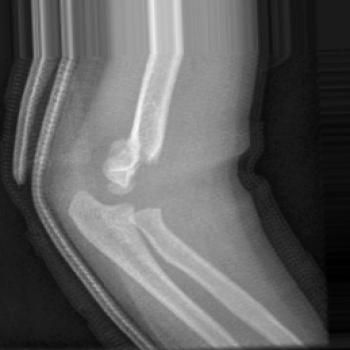Fracture: (124, 148, 175, 221)
